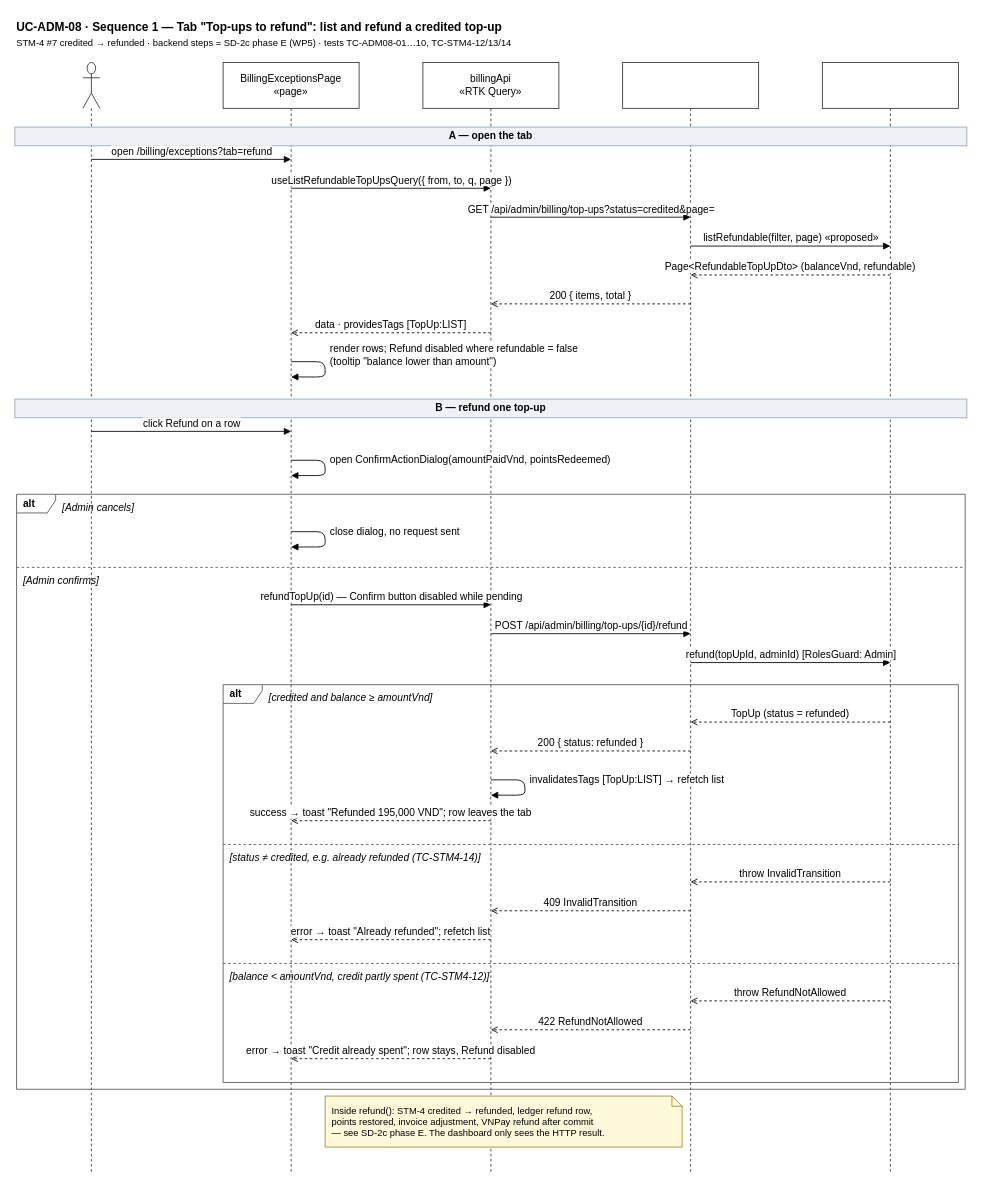
Some shapes in this 982 by 1189 pixel diagram are drawn without their labels. The shapes that lost their labels are listed below. From the top down, each one's box as (x1, y1, x2, y2) in pixels, then its label:
(82, 62, 100, 1174): Admin
(622, 62, 759, 1174): AdminTopUpController «WP5»
(822, 62, 958, 1174): TopUpService «WP5»
